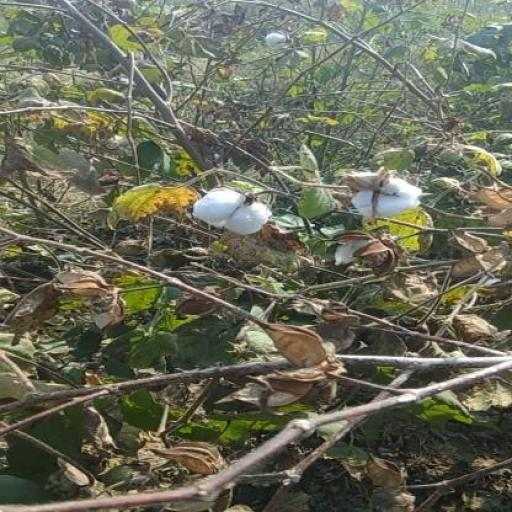cotton_ready: (164, 177, 296, 248), (327, 160, 424, 235)
